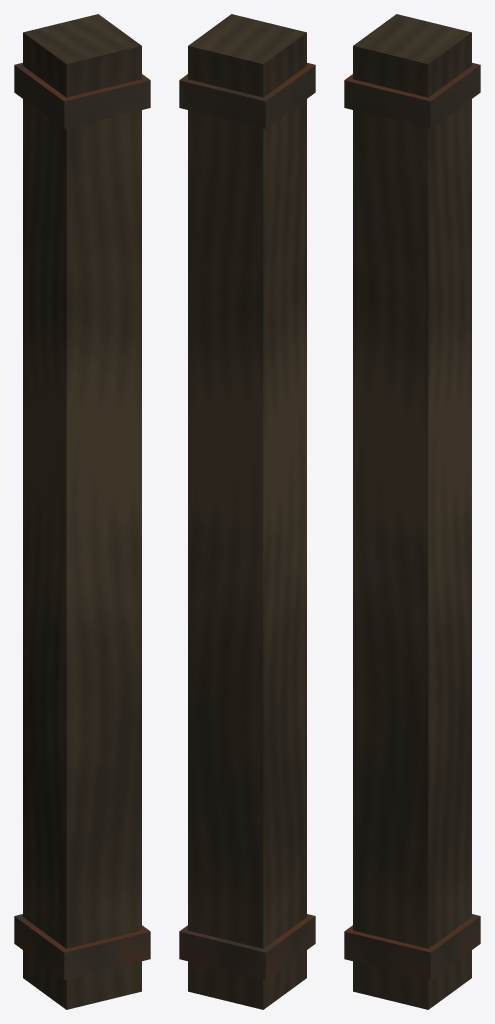
File: Post_2m4.glb
3 renders of one model, left to right at view 1: azimuth 30°, elevation 25°; view 2: azimuth 150°, elevation 25°; view 3: azimuth 330°, elevation 25°, orthographic.
Parts seen in each view (by area): view 1: Post_2m4; view 2: Post_2m4; view 3: Post_2m4.
Boxes of the visible parts, <box> form: Post_2m4: <box>14,14,150,1009</box>; Post_2m4: <box>179,14,315,1009</box>; Post_2m4: <box>344,14,480,1009</box>.
Size of the model in its own units: 0.23 by 2.4 by 0.23.
Materials: 2 (2 with a texture image).
